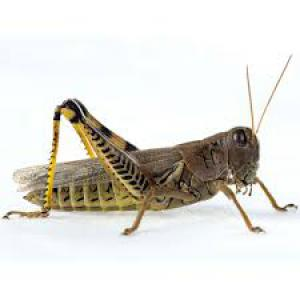locust: (16, 68, 278, 194)
